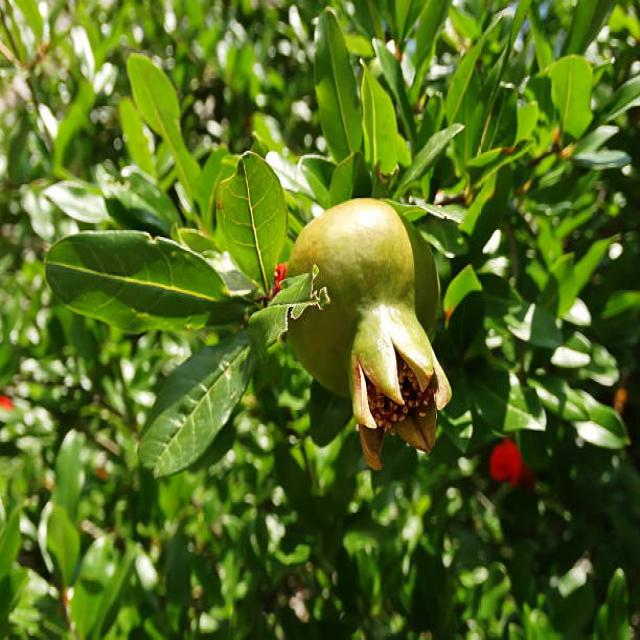Unripe: (280, 193, 458, 466)
